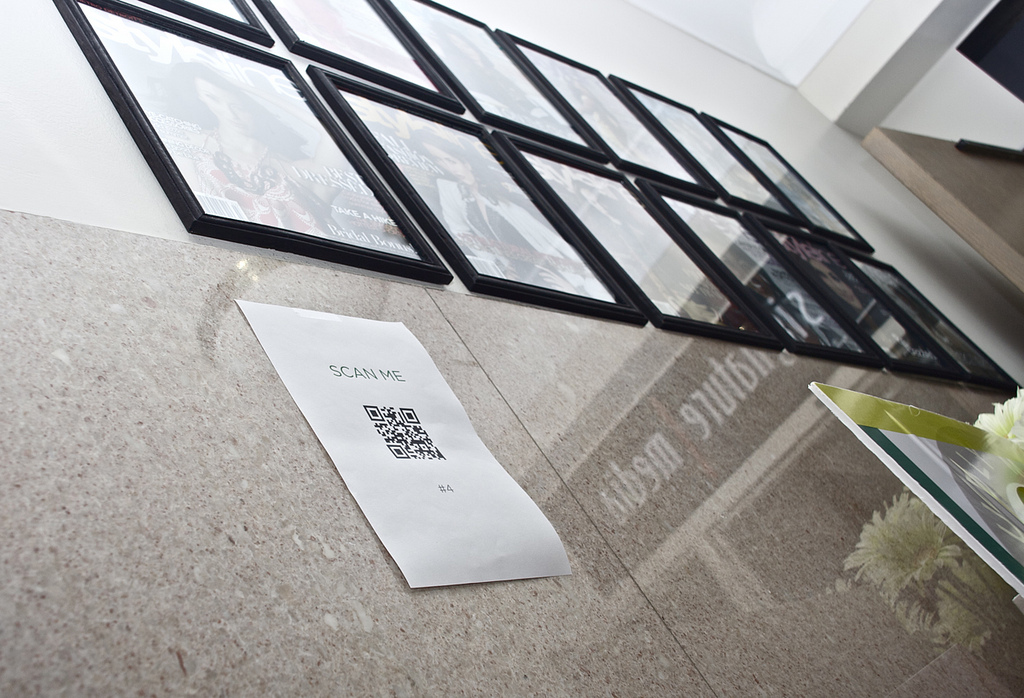QR-CODE: (362, 405, 446, 459)
